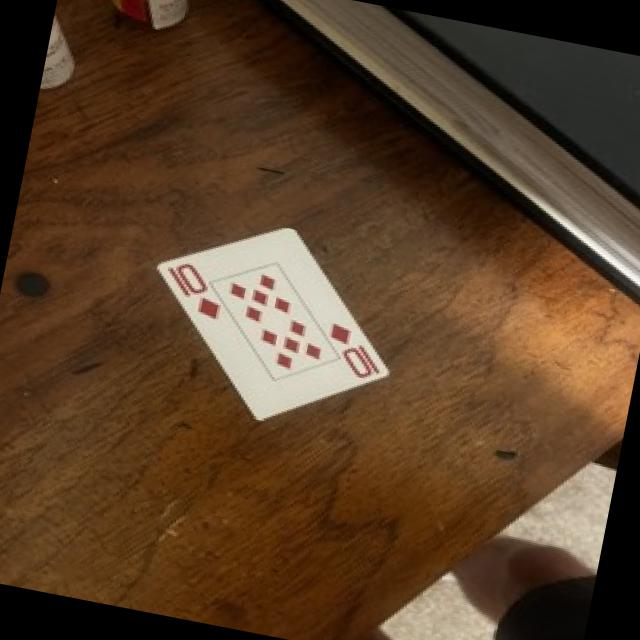10 of diamonds: (157, 228, 387, 419)
